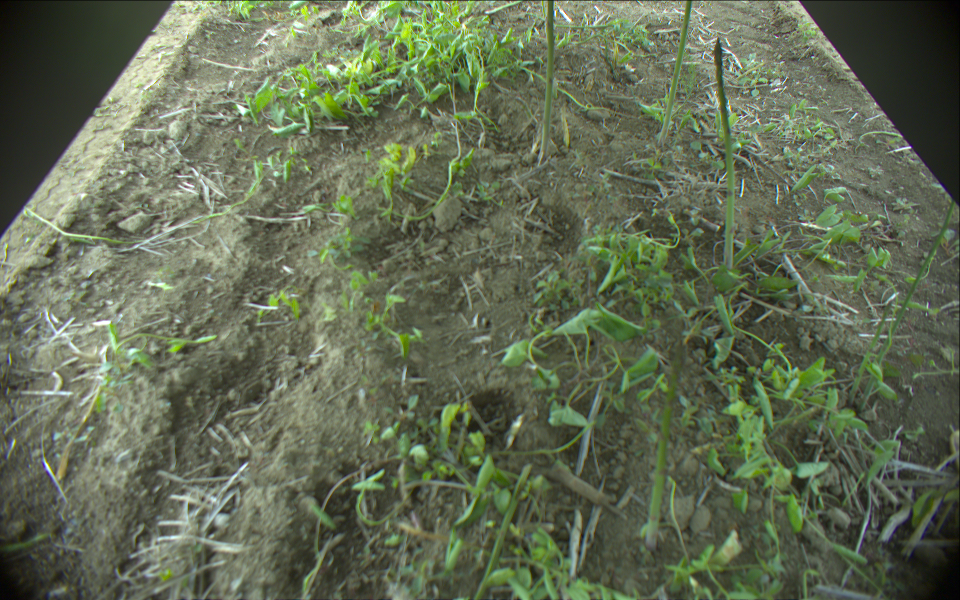aspa: (879, 195, 955, 361), (645, 350, 684, 545), (659, 1, 694, 148), (713, 37, 734, 272), (538, 1, 555, 161), (485, 1, 526, 13)
